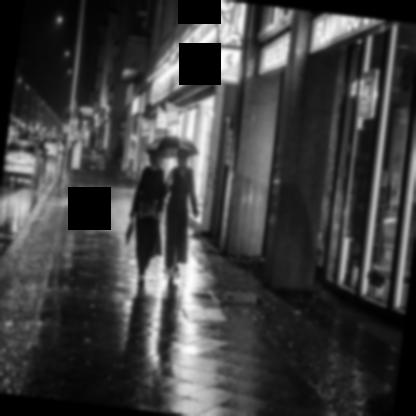handbag: (125, 221, 134, 246)
